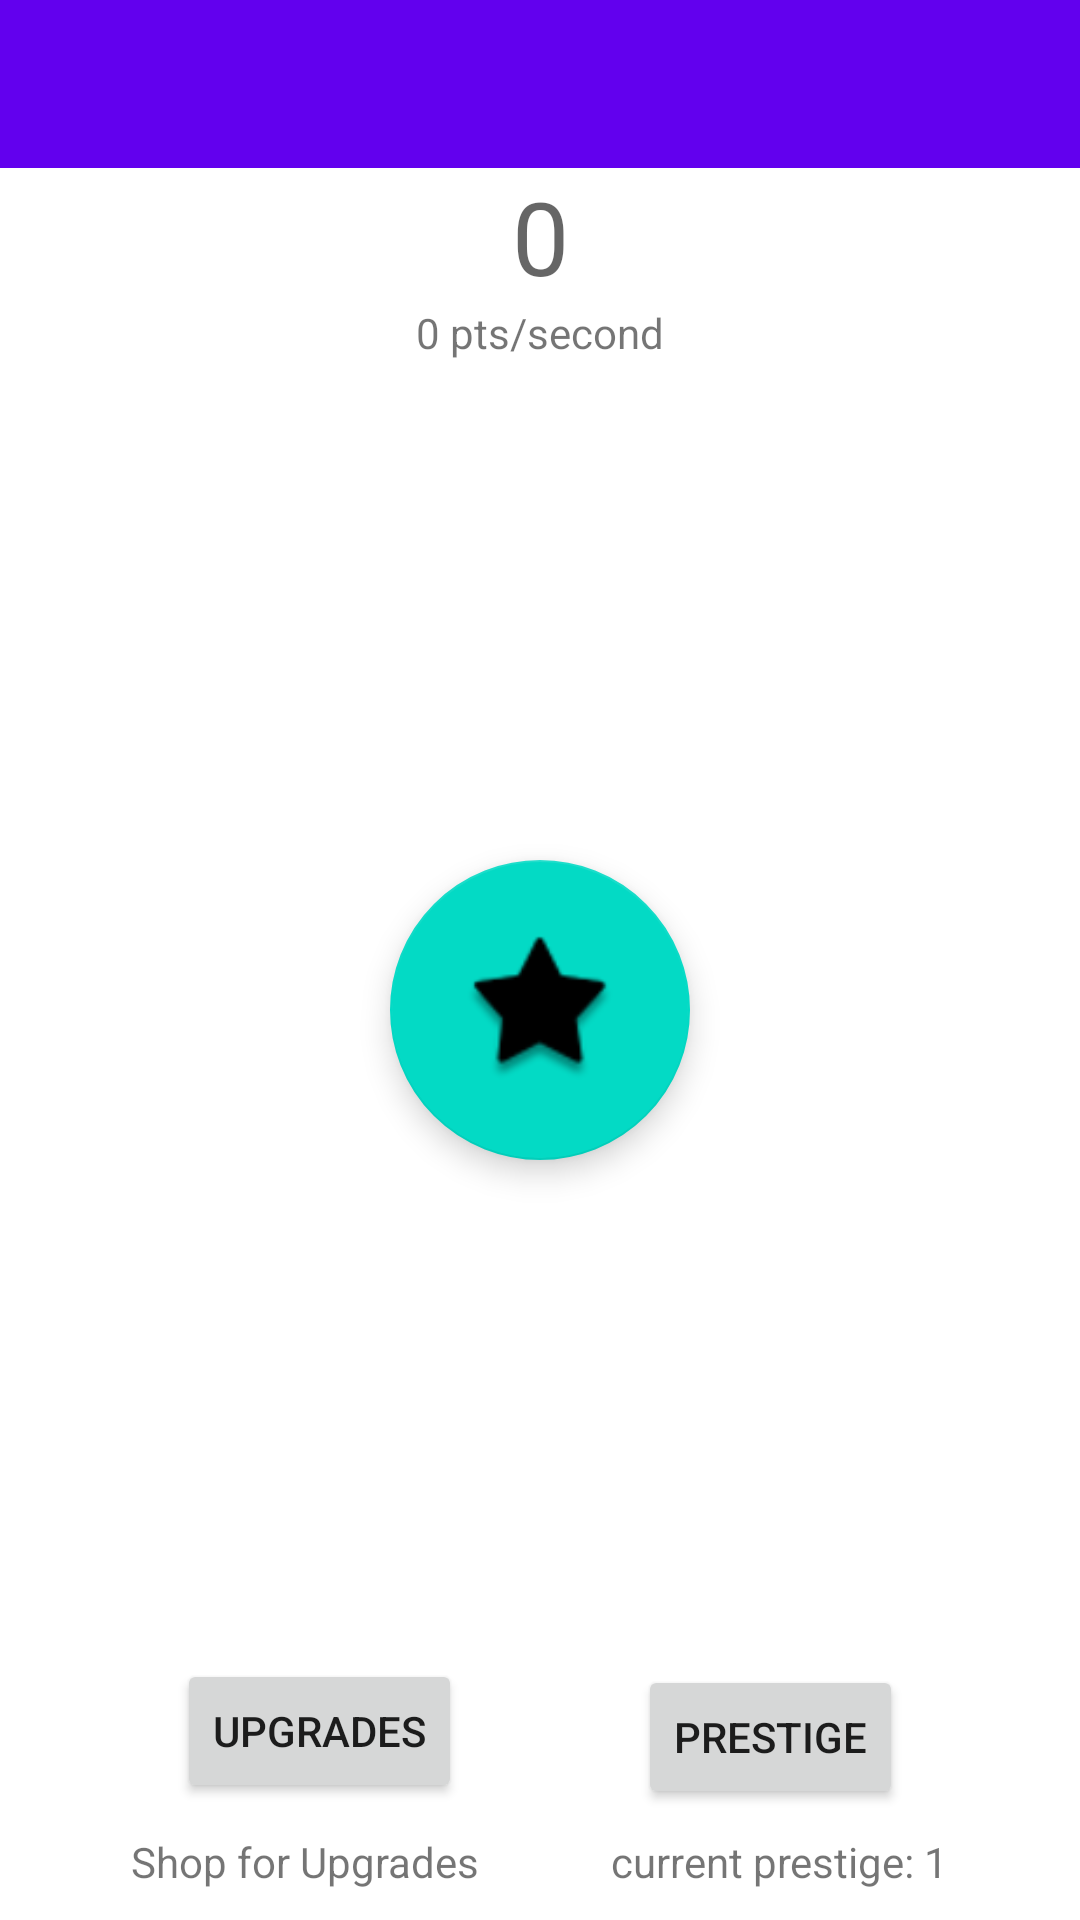

Locate icon controls on the screen. Image size 1080×1920, boxes as (x1, y1, x2, y2).
star on: (390, 860, 690, 1160)
